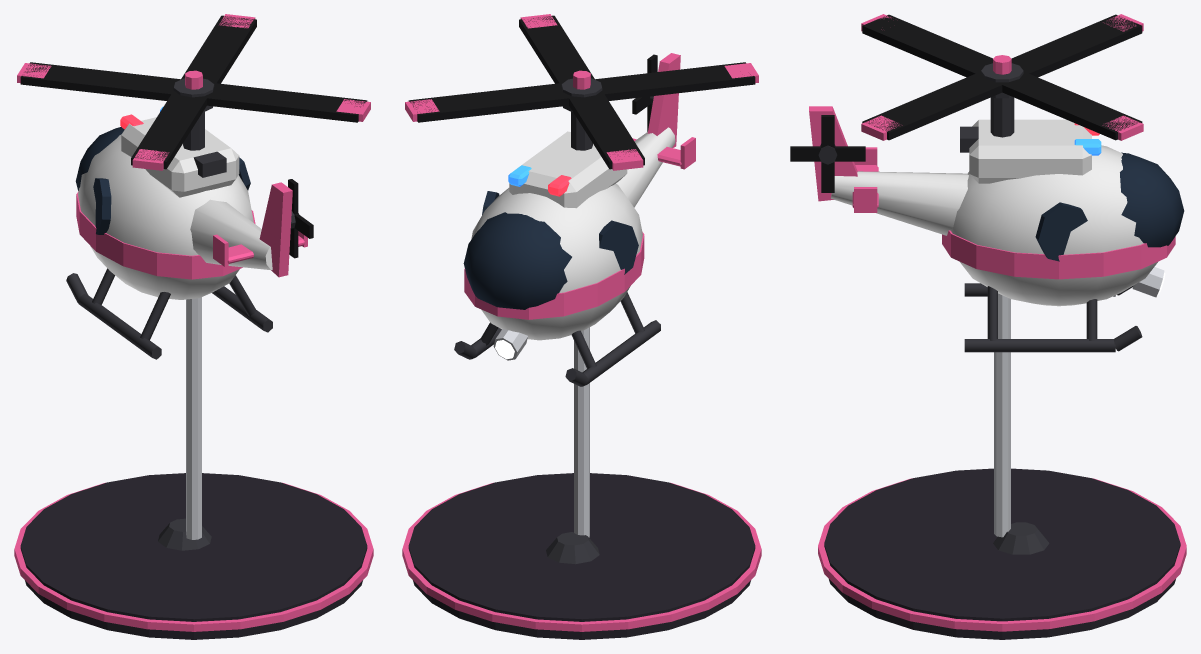
The model's file is queen.glb.
3 renders of one model, left to right at view 1: azimuth 30°, elevation 25°; view 2: azimuth 150°, elevation 25°; view 3: azimuth 270°, elevation 25°, orthographic. The views are drawn at different scales.
Parts seen in each view (by area): view 1: queen, rotor, tail_rotor; view 2: queen, rotor, tail_rotor; view 3: queen, rotor, tail_rotor.
Part boxes in pixels (x1,y1,x2,y2): queen: [14, 106, 373, 639]; rotor: [17, 14, 370, 170]; tail_rotor: [288, 179, 313, 258]; queen: [402, 53, 761, 639]; rotor: [405, 14, 758, 170]; tail_rotor: [632, 54, 657, 131]; queen: [809, 97, 1186, 639]; rotor: [861, 14, 1143, 140]; tail_rotor: [790, 115, 865, 192].
Size of the model in its own units: 0.704 by 1.06 by 0.757.
